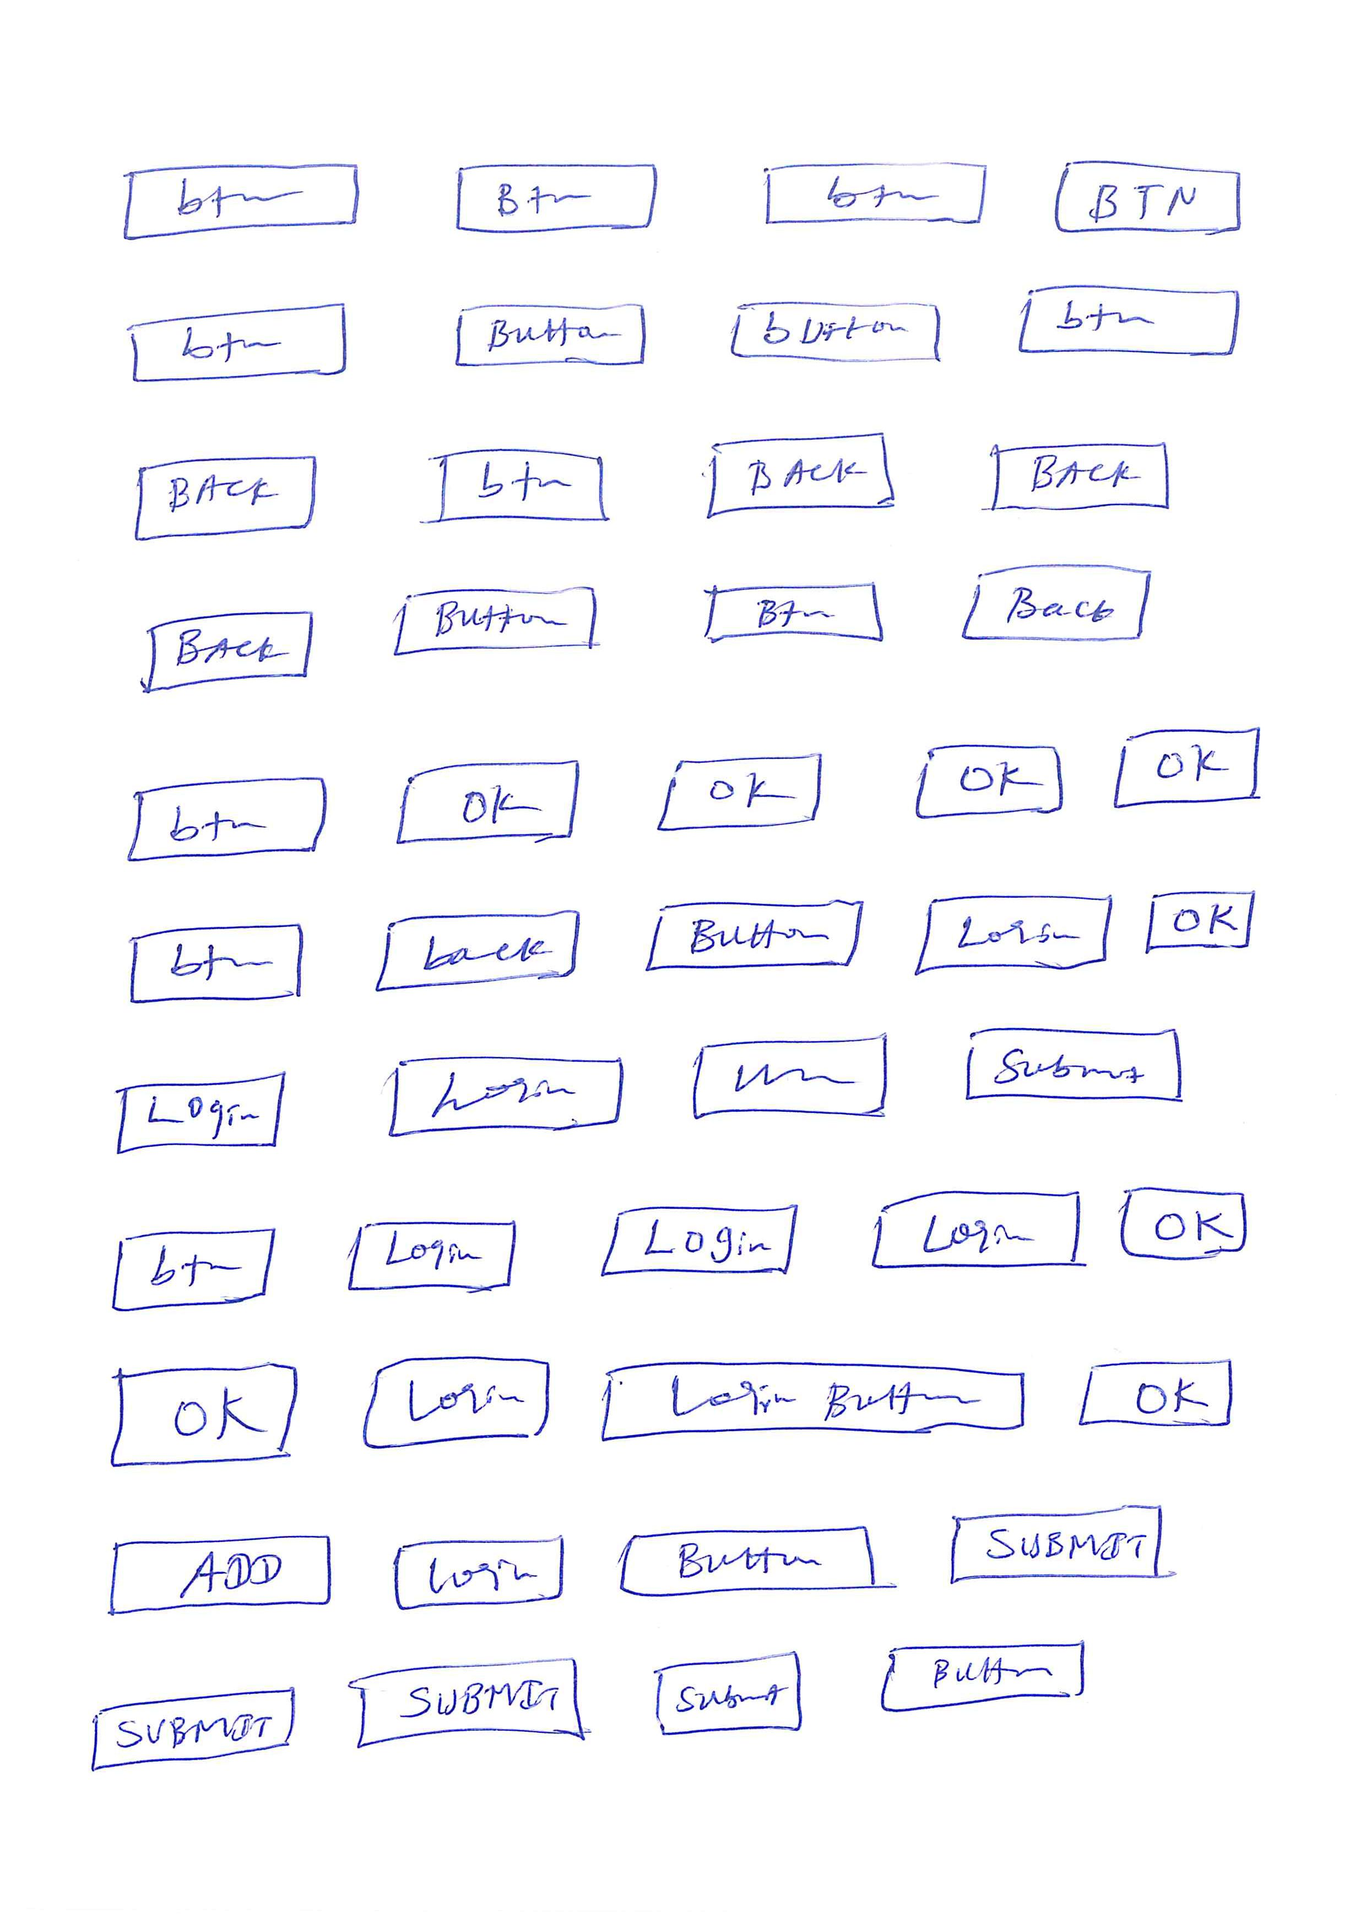Button: (599, 1357, 1027, 1437), (349, 1657, 587, 1751), (108, 1363, 300, 1468), (389, 1053, 622, 1138), (120, 160, 364, 241), (106, 1532, 334, 1618), (616, 1524, 884, 1597), (359, 1354, 551, 1452), (89, 1686, 296, 1773), (704, 430, 897, 523), (126, 302, 347, 383), (866, 1187, 1084, 1270), (946, 1504, 1166, 1585), (373, 909, 581, 995), (126, 775, 330, 862), (1016, 282, 1242, 359), (692, 1032, 891, 1118), (965, 1026, 1183, 1104), (395, 759, 581, 847), (914, 893, 1113, 976), (133, 454, 318, 543), (643, 900, 865, 973), (959, 562, 1152, 645), (112, 1070, 288, 1158), (727, 297, 948, 367), (880, 1640, 1087, 1714), (1053, 157, 1243, 237), (761, 160, 989, 226), (454, 163, 658, 237), (109, 1226, 279, 1311), (393, 586, 597, 656), (599, 1202, 798, 1275), (140, 611, 313, 693), (129, 923, 303, 1004), (390, 1533, 566, 1612), (433, 447, 611, 523), (986, 439, 1174, 512), (656, 753, 823, 834), (653, 1652, 806, 1736), (1112, 724, 1263, 809), (346, 1218, 517, 1292), (454, 302, 648, 367), (914, 744, 1066, 821), (1075, 1357, 1234, 1430), (701, 583, 883, 645), (1119, 1184, 1249, 1263), (1144, 886, 1257, 954)
